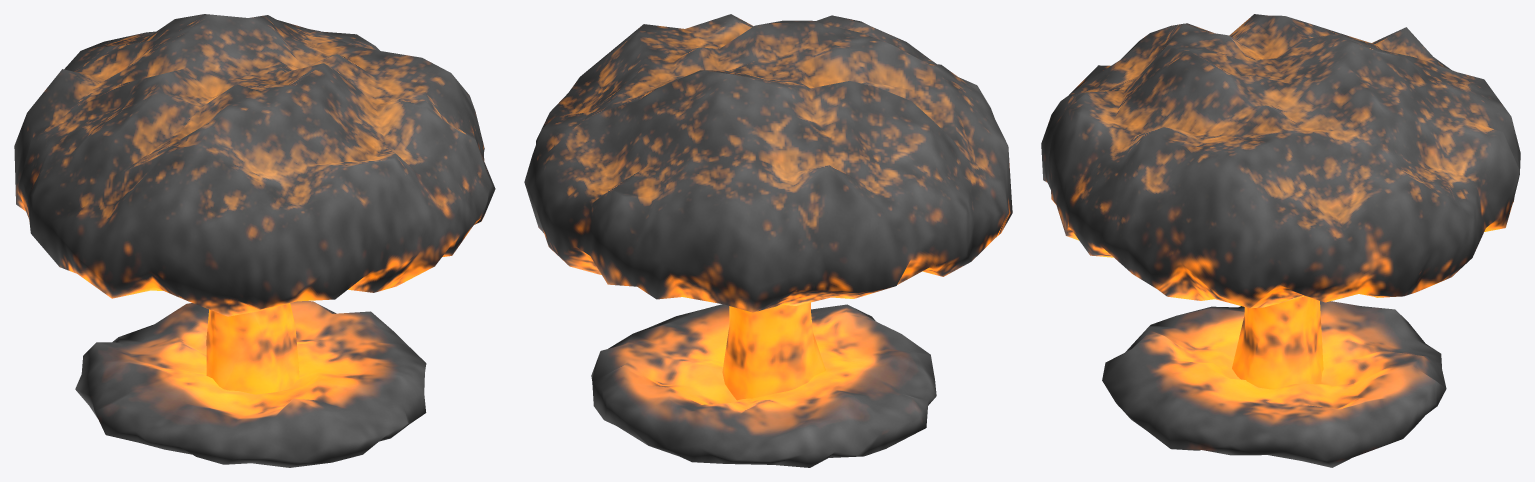
File: mushroom_cloud_low_poly.glb
3 renders of one model, left to right at view 1: azimuth 30°, elevation 25°; view 2: azimuth 150°, elevation 25°; view 3: azimuth 270°, elevation 25°, orthographic. The views are drawn at different scales.
Parts seen in each view (by area): view 1: Nuke_low; view 2: Nuke_low; view 3: Nuke_low.
Part boxes in pixels (<box>): Nuke_low: <box>14,14,495,467</box>; Nuke_low: <box>524,14,1012,467</box>; Nuke_low: <box>1041,14,1520,467</box>.
Bounding box in the file's own units: 8919 × 7559 × 9000.
Materials: 1 (1 with a texture image).
